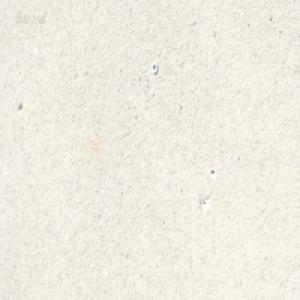Washer: (151, 62, 157, 74)
